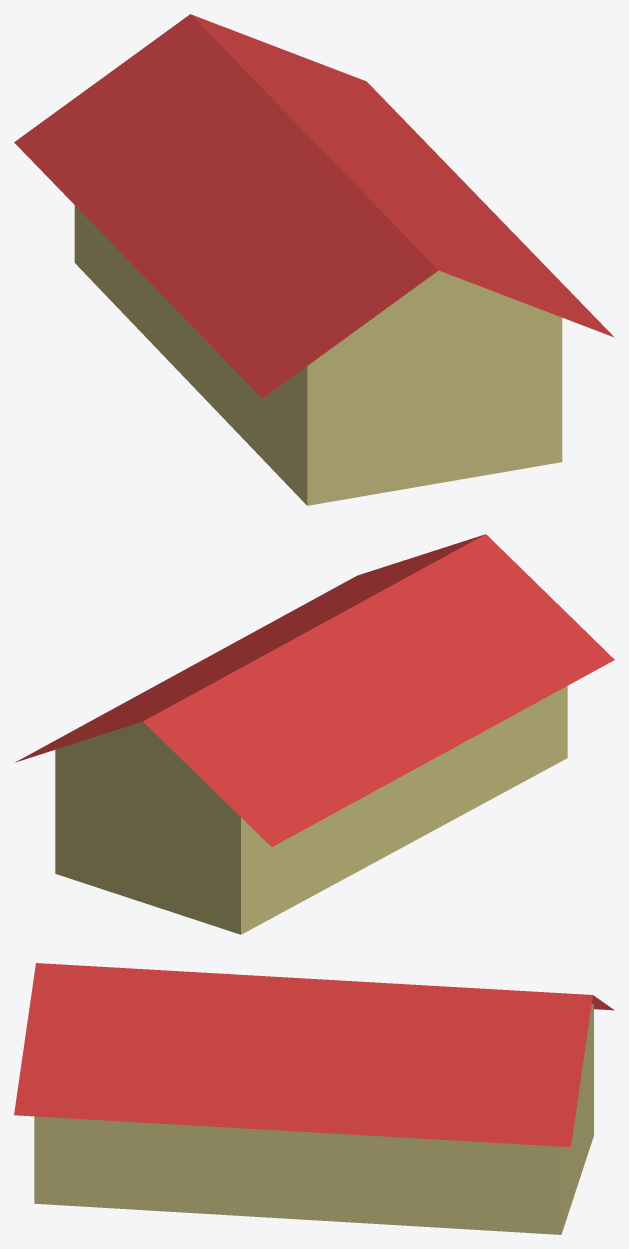
The picture shows the model from 3 angles, top to bottom: view 1: azimuth 30°, elevation 25°; view 2: azimuth 150°, elevation 25°; view 3: azimuth 270°, elevation 25°; orthographic projection. The views are drawn at different scales.
Size of the model in its own units: 27.12 by 40.8 by 14.19.
